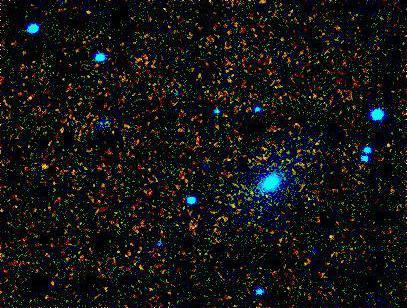star: (75, 0, 105, 30)
